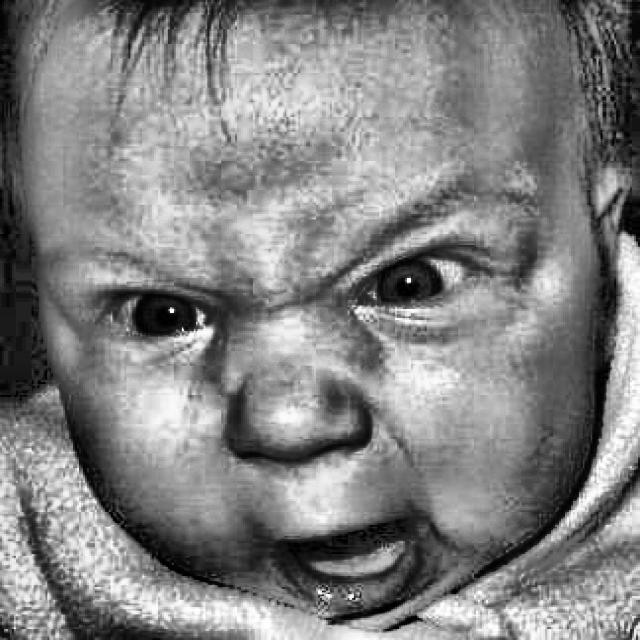angry: (16, 3, 638, 628)
